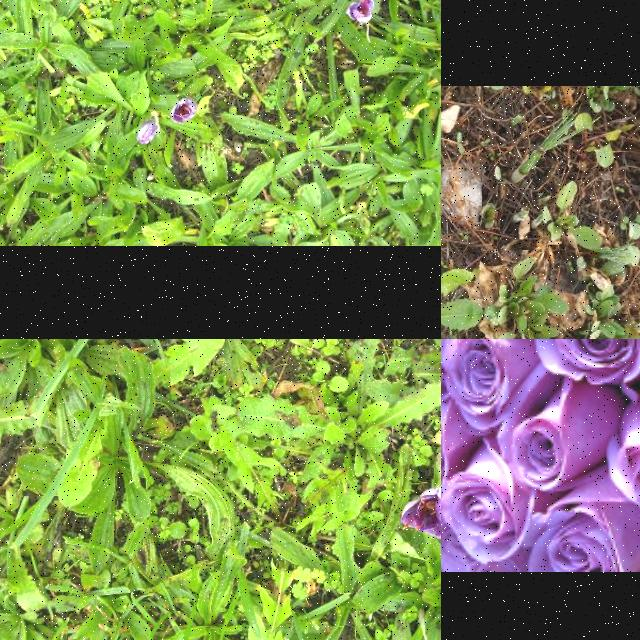flower: (400, 487, 441, 540), (170, 98, 197, 125), (346, 0, 374, 25), (137, 120, 159, 146)
